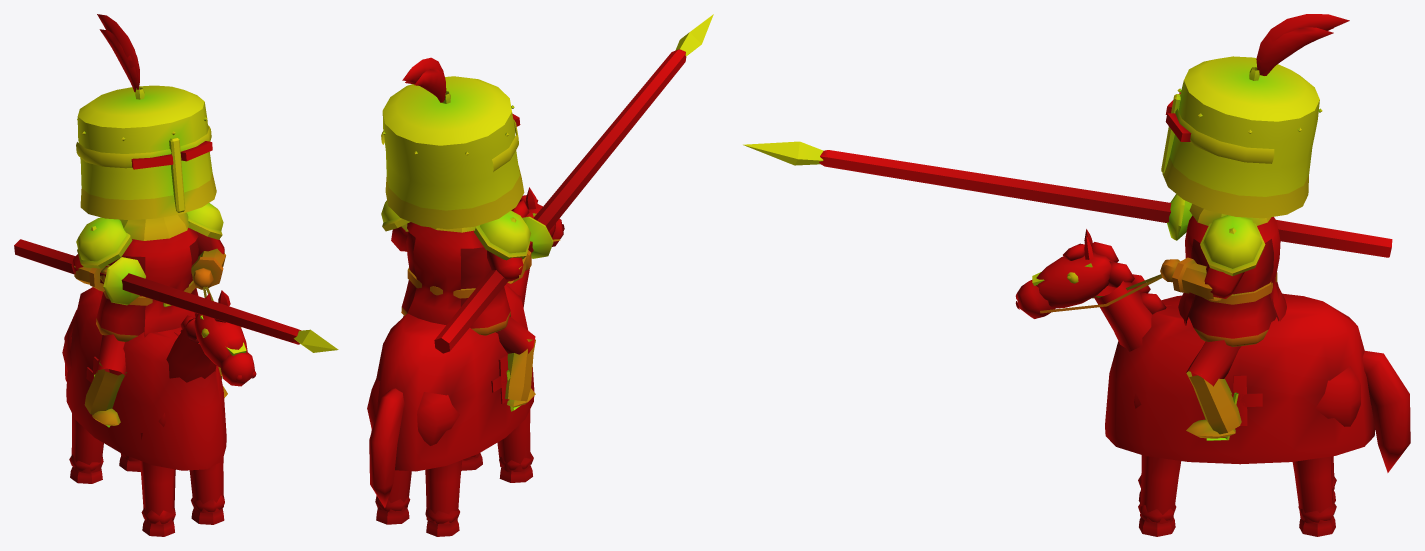
Rendered from Cavalier.glb.
3 views of the same model, side by side, from view 1: azimuth 30°, elevation 25°; view 2: azimuth 150°, elevation 25°; view 3: azimuth 270°, elevation 25° (orthographic). The views are drawn at different scales.
Parts seen in each view (by area): view 1: Cavalier; view 2: Cavalier; view 3: Cavalier.
Part boxes in pixels (box(x1,y1,x2,y2)): Cavalier: box(14, 14, 338, 536); Cavalier: box(367, 14, 713, 536); Cavalier: box(743, 14, 1410, 536).
Size of the model in its own units: 0.4852 by 1.48 by 1.79.
